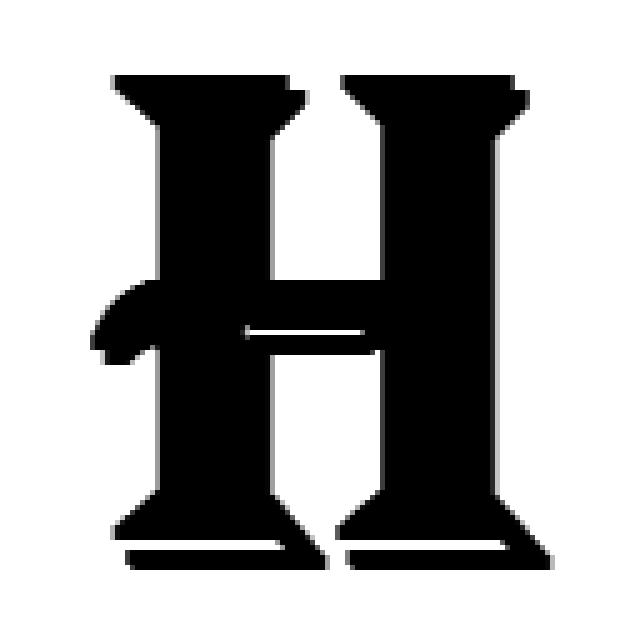H: (106, 72, 557, 572)
